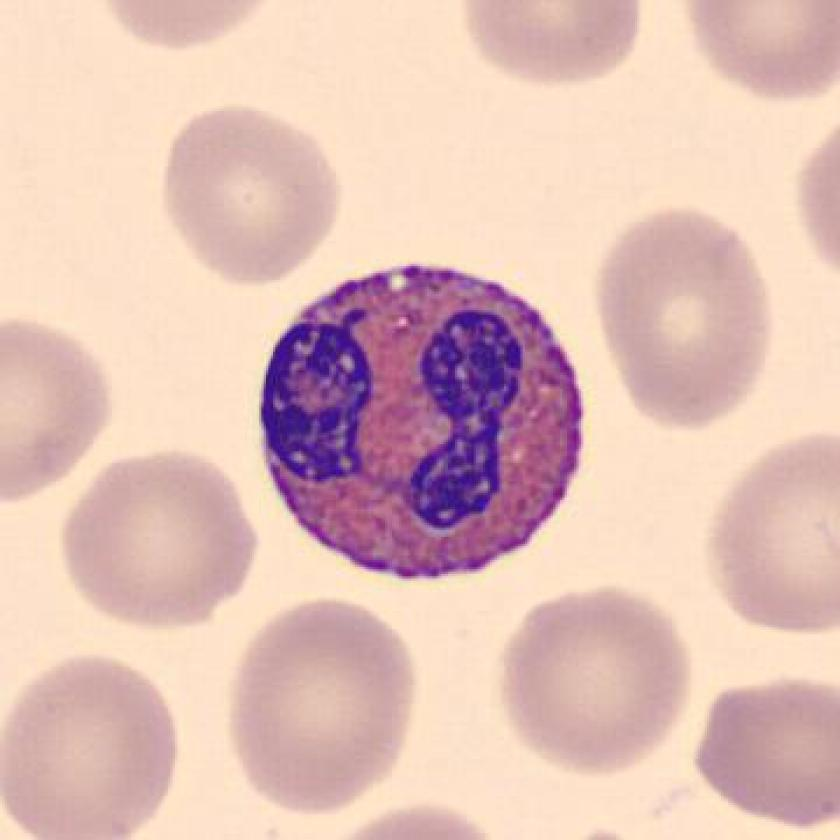eosinophil: (246, 256, 598, 594), (685, 461, 687, 464)
